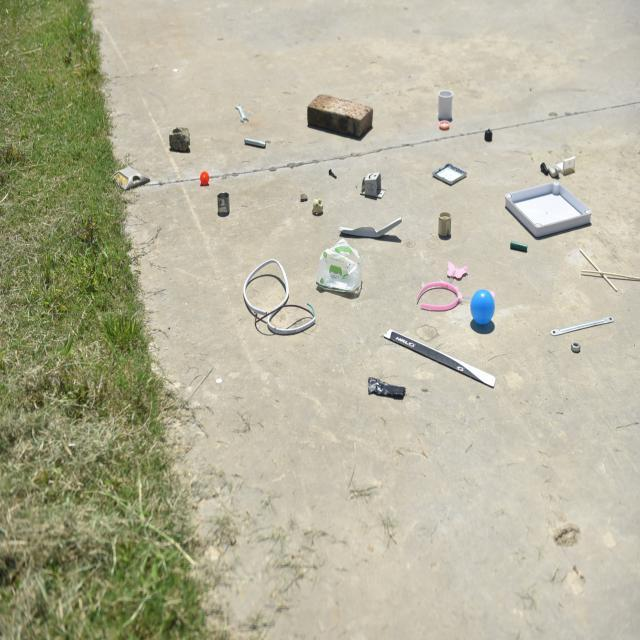Debris: (379, 319, 495, 390), (239, 256, 313, 346), (519, 181, 597, 234), (309, 84, 375, 142), (414, 264, 468, 318), (321, 234, 362, 302), (545, 307, 617, 343), (333, 218, 407, 245), (575, 262, 636, 287), (109, 160, 151, 196), (365, 372, 406, 405), (535, 151, 583, 179), (470, 285, 496, 334), (160, 120, 197, 154), (433, 157, 467, 185), (358, 168, 383, 202), (434, 209, 454, 246), (223, 98, 253, 120), (438, 83, 452, 119), (324, 160, 341, 184), (506, 240, 527, 255), (219, 190, 231, 216), (479, 125, 495, 143), (568, 338, 583, 353), (313, 199, 323, 220), (440, 119, 454, 131), (198, 166, 207, 184), (296, 192, 310, 202)
